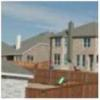chimneys: (68, 20, 75, 48), (15, 32, 22, 52)
